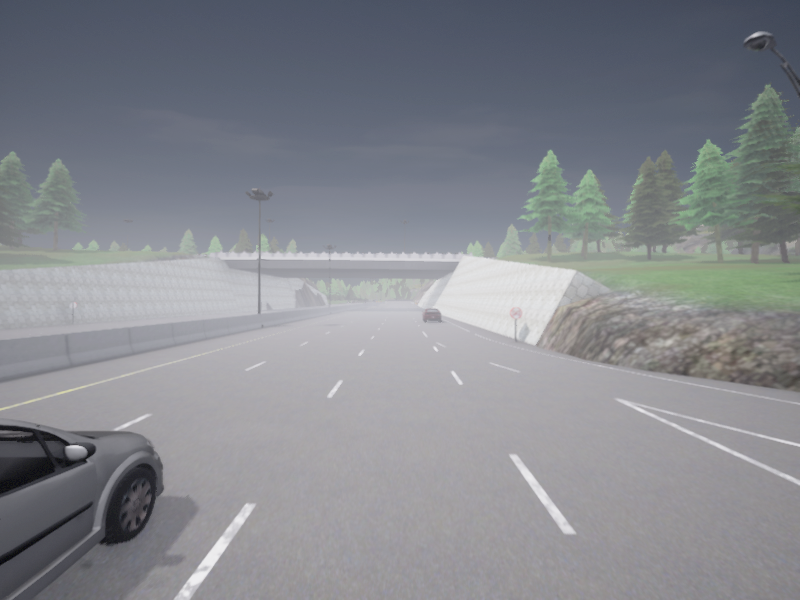vehicle: (0, 418, 163, 599), (422, 308, 440, 321)
